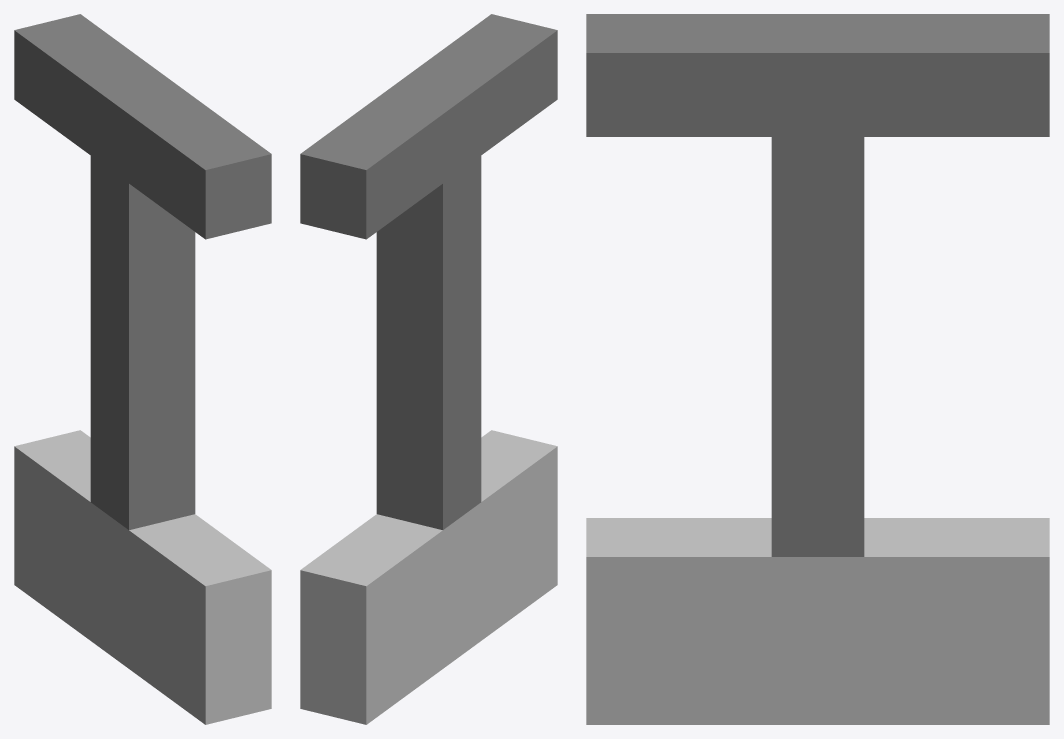
The model's file is Barrier_Body.fbx.
The picture shows the model from 3 angles, left to right: view 1: azimuth 30°, elevation 25°; view 2: azimuth 150°, elevation 25°; view 3: azimuth 270°, elevation 25°; orthographic projection. The views are drawn at different scales.
Visible parts, largest first — view 1: Barrier_Body; view 2: Barrier_Body; view 3: Barrier_Body.
Boxes of the visible parts, x1,y1,x2,y2 form: Barrier_Body: [14, 14, 271, 724]; Barrier_Body: [300, 14, 557, 724]; Barrier_Body: [586, 14, 1049, 724].
Size of the model in its own units: 1 by 8 by 5.
